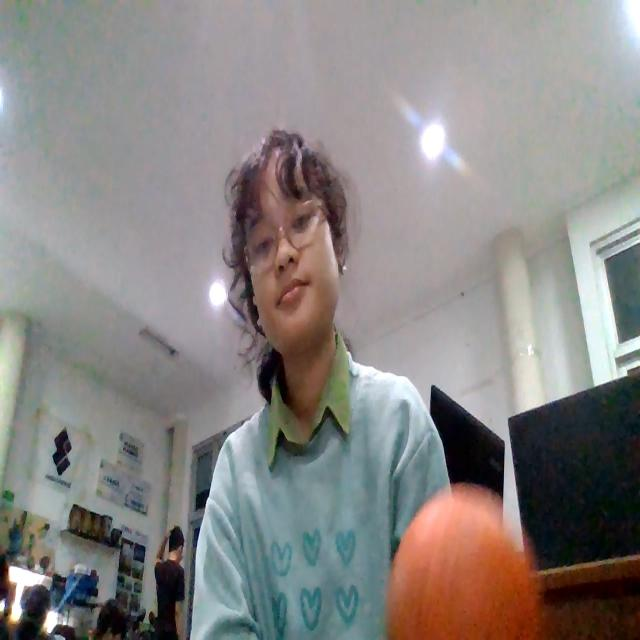ball: (385, 484, 543, 638)
